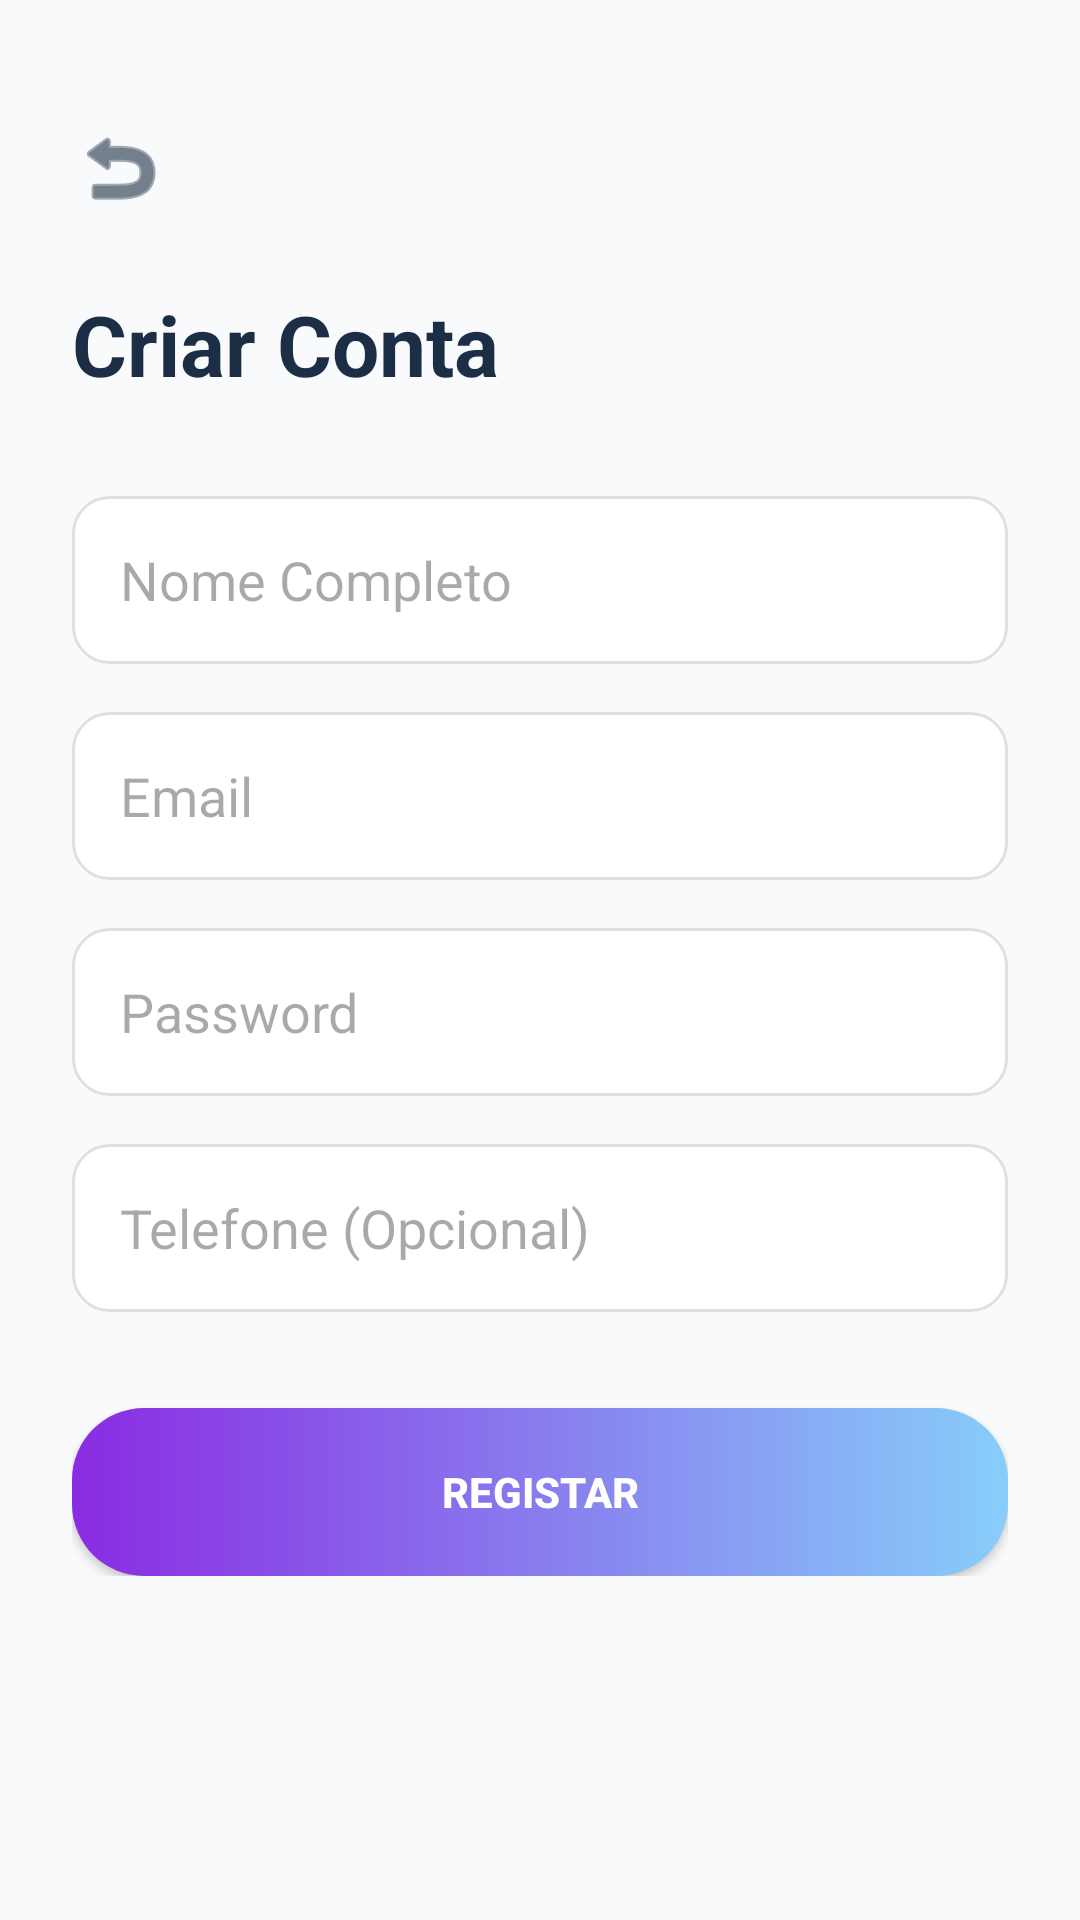

Named icons in this screenshot (1080 x 1920) and their bounding boxes, bbox=[x1, y1, x2, y2]:
revert: bbox=[87, 137, 156, 200]
